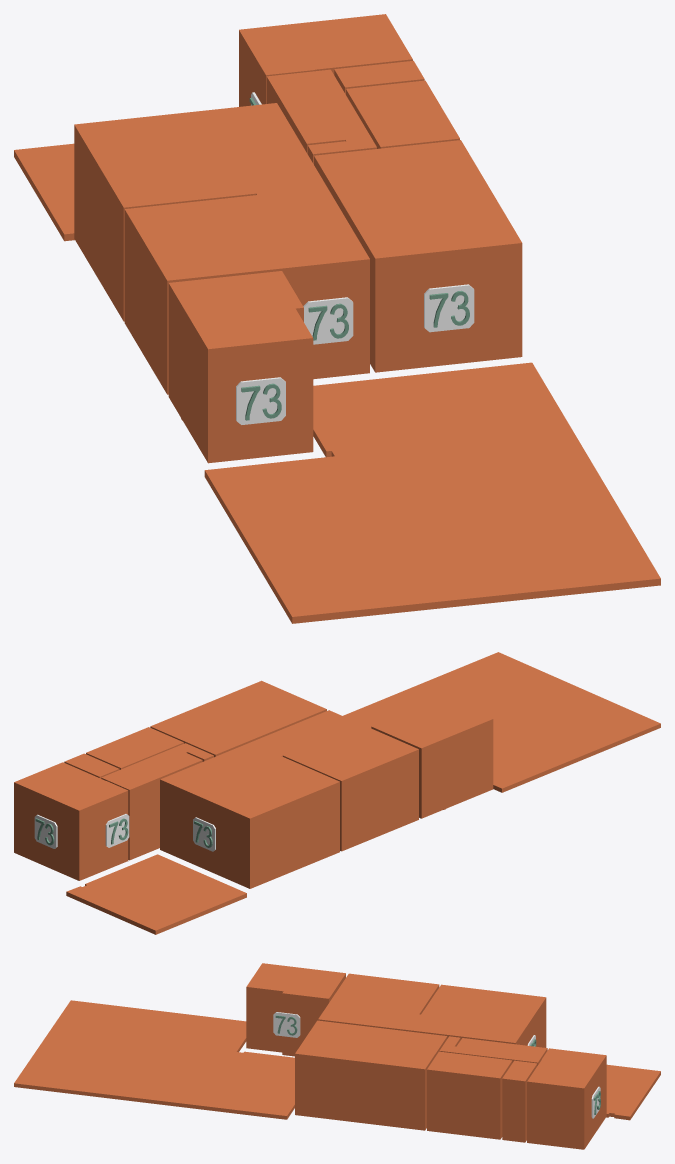
The picture shows the model from 3 angles, top to bottom: view 1: azimuth 30°, elevation 25°; view 2: azimuth 150°, elevation 25°; view 3: azimuth 270°, elevation 25°; orthographic projection. The views are drawn at different scales.
Parts seen in each view (by area): view 1: g_9, g_1, g_3, g_4, g_0, g_2, g_5, g_6, g_8, g_7, g_12, g_24 (+1 smaller); view 2: g_4, g_9, g_3, g_2, g_0, g_8, g_1, g_5, g_6, g_7, g_18, g_15 (+1 smaller); view 3: g_9, g_1, g_2, g_4, g_6, g_0, g_3, g_8, g_7, g_5, g_30.
Boxes of the visible parts, x1,y1,x2,y2 form: g_9: [204, 362, 660, 623]; g_1: [314, 140, 522, 372]; g_3: [124, 186, 369, 394]; g_4: [74, 103, 326, 321]; g_0: [168, 271, 313, 463]; g_2: [239, 14, 412, 106]; g_5: [266, 69, 376, 164]; g_6: [346, 80, 459, 148]; g_8: [14, 143, 74, 241]; g_7: [334, 60, 424, 94]; g_12: [424, 284, 474, 332]; g_24: [236, 377, 285, 424]; g_4: [160, 742, 339, 888]; g_9: [343, 652, 660, 792]; g_3: [250, 710, 418, 851]; g_2: [14, 762, 128, 880]; g_0: [371, 698, 493, 818]; g_8: [66, 854, 246, 934]; g_1: [150, 680, 326, 757]; g_5: [101, 743, 213, 860]; g_6: [86, 727, 183, 769]; g_7: [64, 753, 119, 778]; g_18: [105, 814, 129, 847]; g_15: [34, 814, 57, 848]; g_9: [14, 1000, 294, 1119]; g_1: [295, 1020, 447, 1130]; g_2: [527, 1048, 606, 1149]; g_4: [410, 984, 546, 1047]; g_6: [427, 1051, 512, 1139]; g_0: [246, 963, 345, 1056]; g_3: [318, 973, 439, 1031]; g_8: [606, 1064, 660, 1120]; g_7: [502, 1060, 537, 1142]; g_5: [439, 1036, 547, 1065]; g_30: [273, 1012, 300, 1037].
Bounding box in the file's own units: 13.01 × 2.65 × 23.73.
